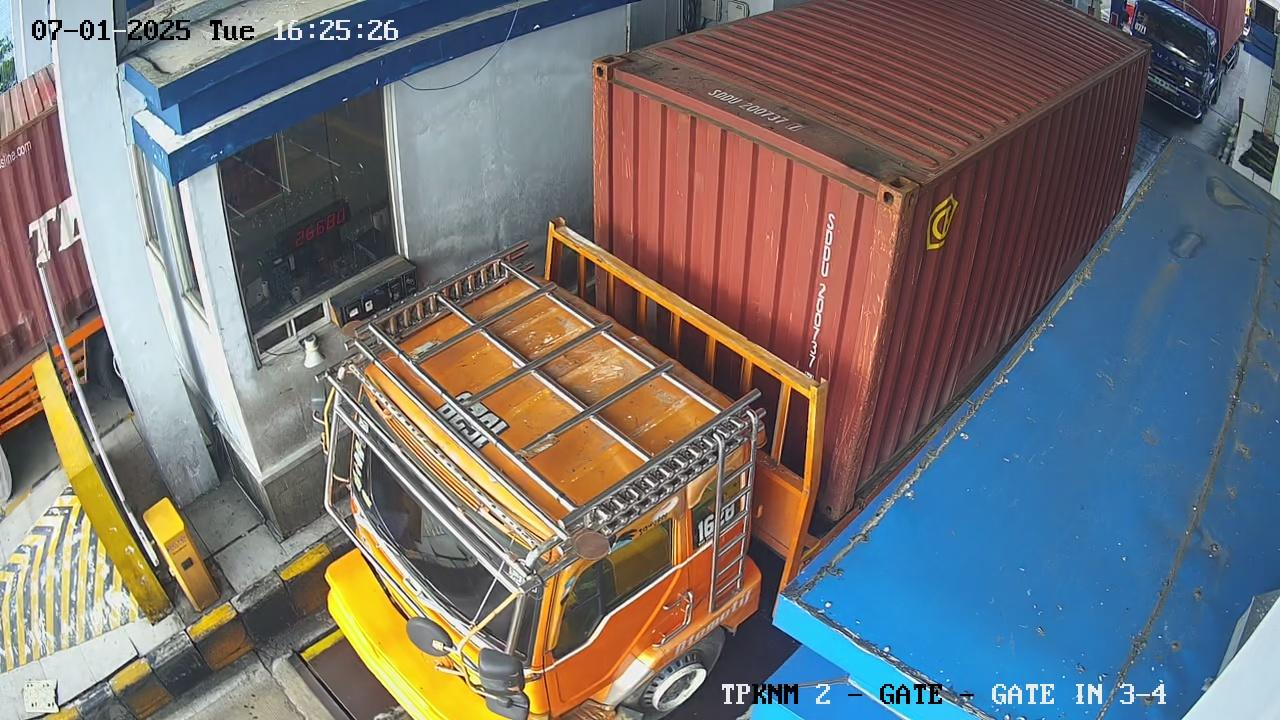Container_ID: (686, 69, 839, 162)
Container_ID_Vertikal: (785, 198, 853, 378)
